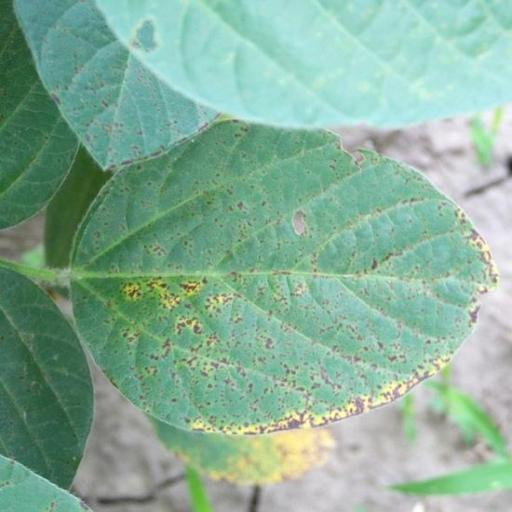Septoria: (62, 130, 510, 438)
